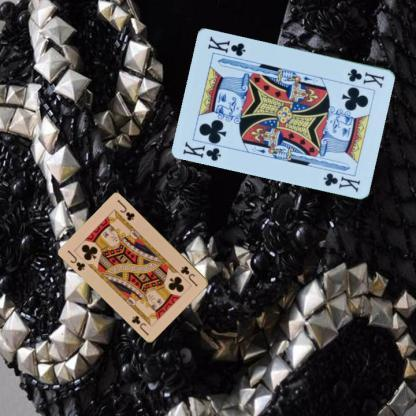Jc: (64, 247, 86, 272), (178, 263, 199, 288)
Kc: (180, 138, 223, 162), (345, 66, 386, 90)
